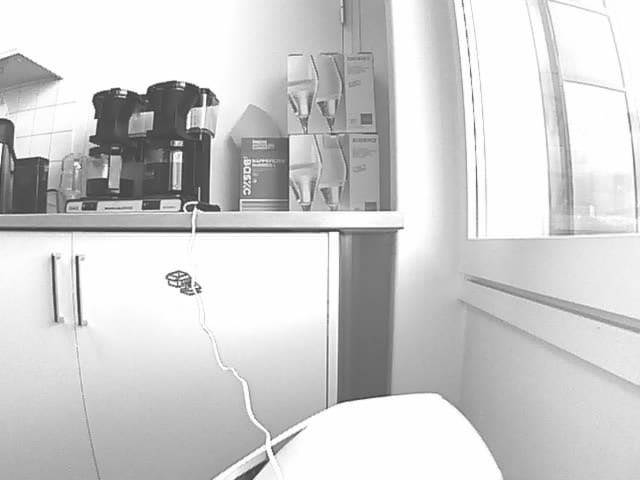not empty coffee: (143, 139, 198, 196), (86, 146, 137, 200)
